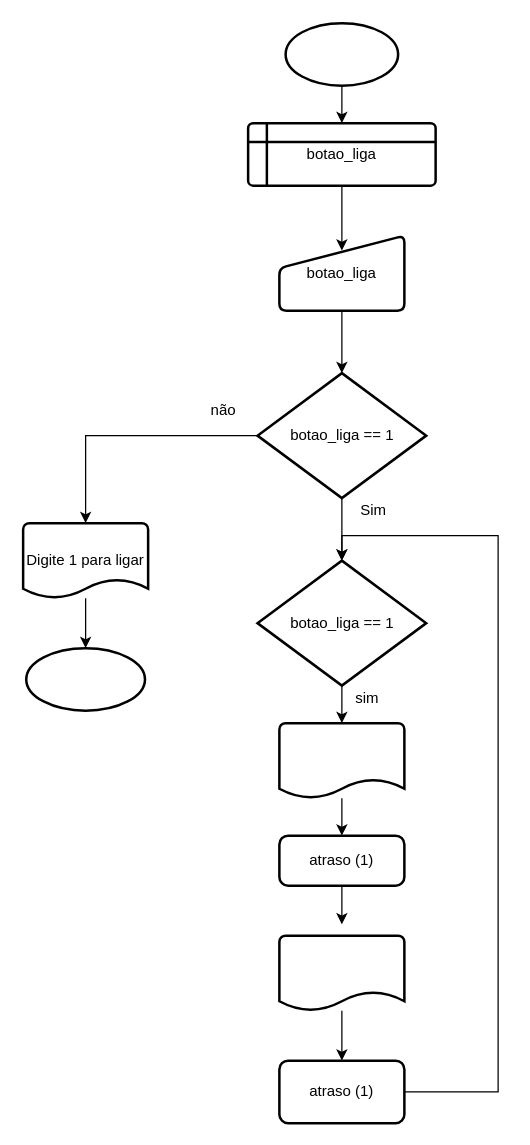
Image size: 530x1145. Some labels were removed from this diagram. The shapes that lost their labels are listed below. From the top down, each one's box as (x1, y1, x2, y2) in pixels, then its label:
(284, 21, 399, 86): Inicio
(24, 646, 146, 711): Fim
(278, 721, 405, 799): ***Pisca***
(278, 934, 405, 1011): apaga
